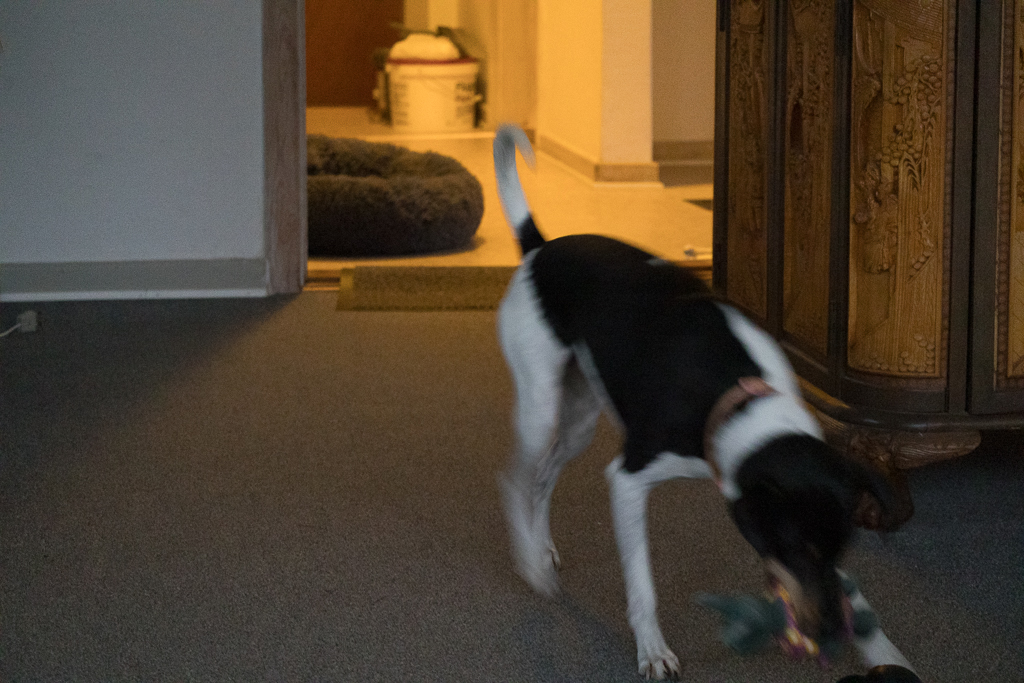Dog: (480, 117, 921, 683)
Humanoid: (694, 564, 883, 662)
